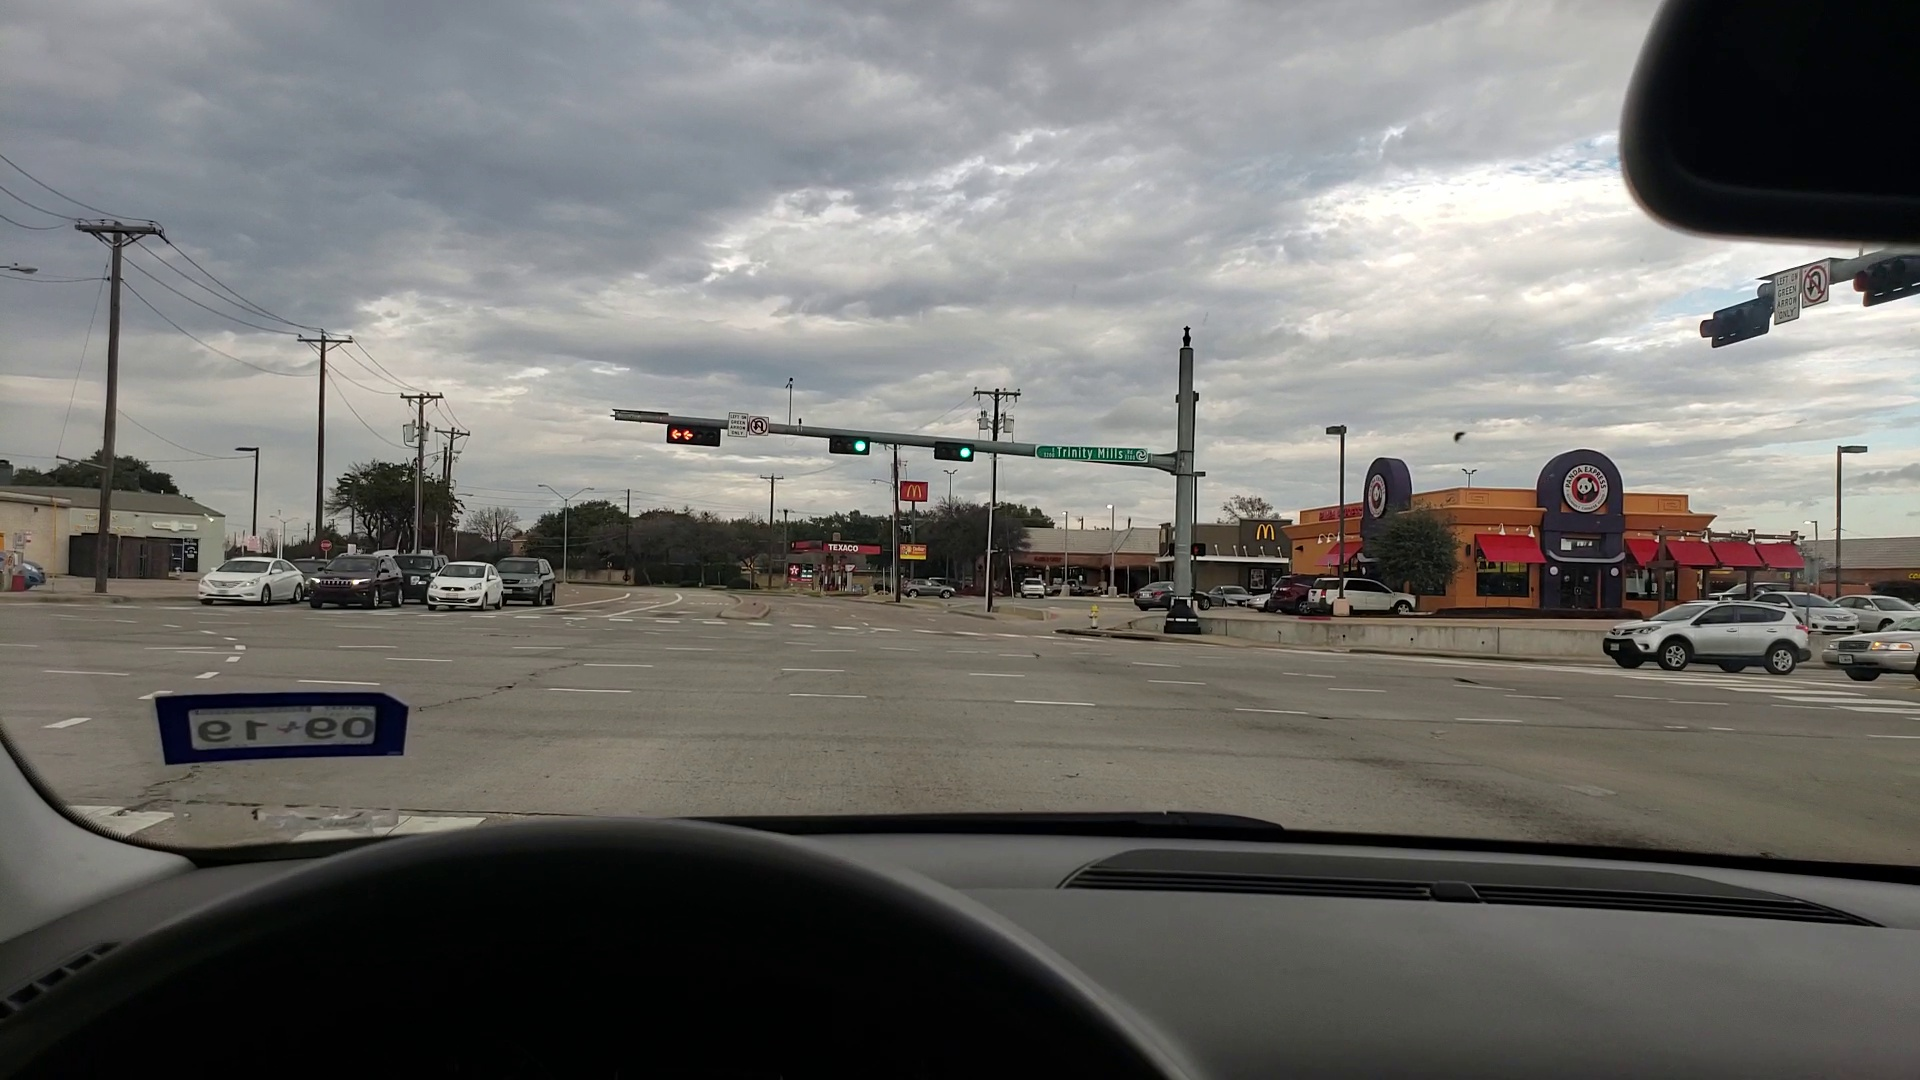car: (1602, 596, 1809, 675), (1824, 612, 1917, 679), (309, 551, 404, 611), (198, 553, 305, 603), (1753, 589, 1862, 634), (1308, 575, 1418, 615), (430, 556, 500, 615), (1834, 591, 1920, 632), (496, 556, 556, 605), (394, 553, 448, 603), (1131, 579, 1203, 609), (3, 547, 50, 589), (1710, 582, 1796, 601), (1270, 575, 1313, 611), (905, 578, 957, 601), (1207, 585, 1251, 608), (1246, 593, 1270, 612), (1022, 579, 1046, 597)
stop sign: (320, 538, 334, 550)
traffic light: (665, 423, 720, 446), (827, 435, 872, 456), (935, 439, 972, 464)
